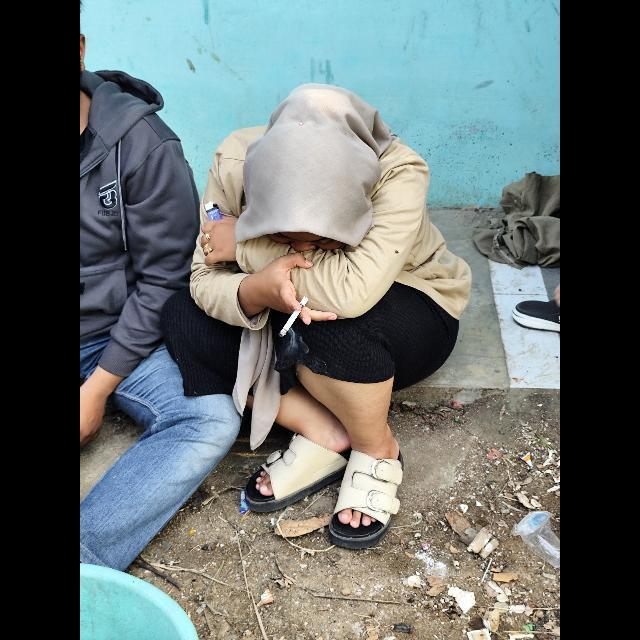rokok: (275, 294, 311, 344)
